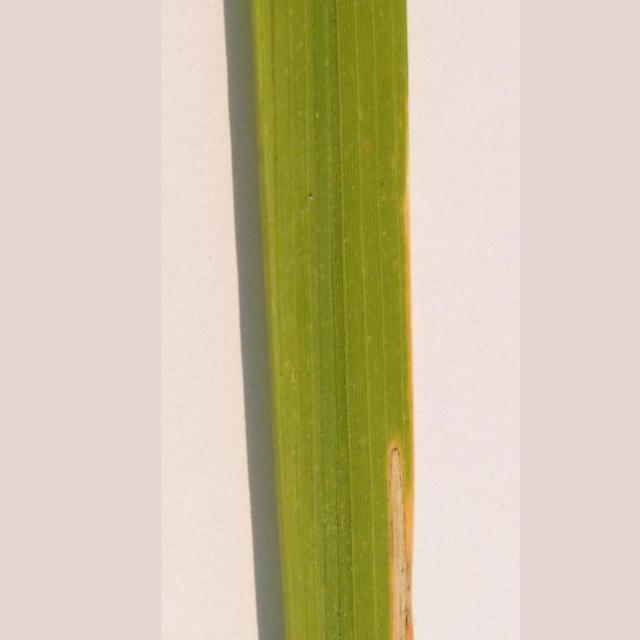leaf blight: (372, 152, 419, 639)
